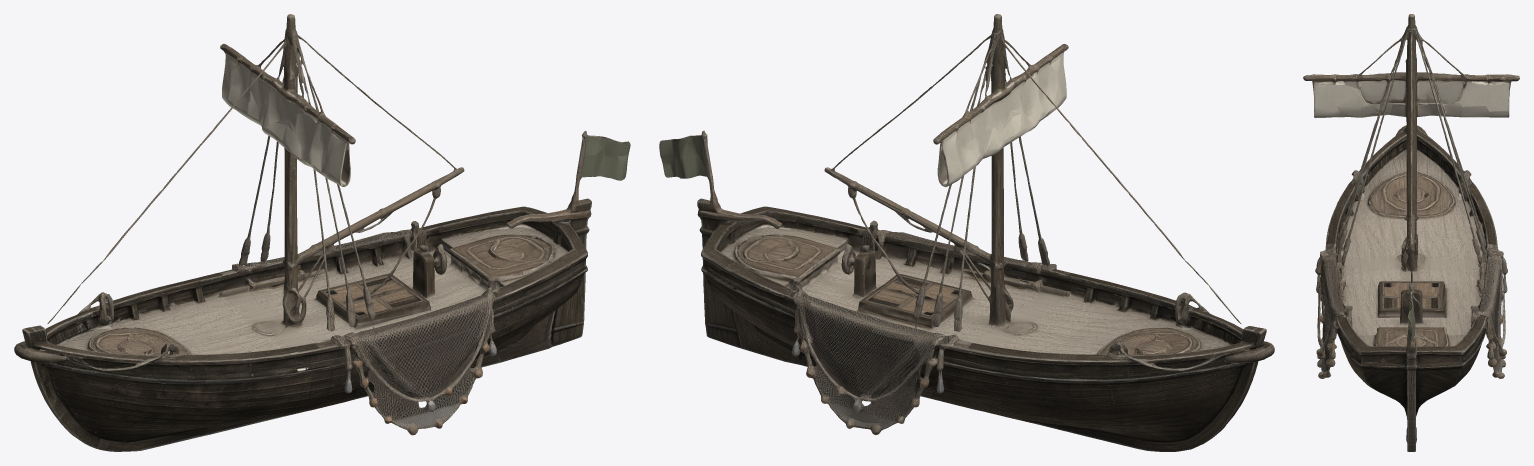
The model's file is barco-pesquero.glb.
3 views of the same model, side by side, from view 1: azimuth 30°, elevation 25°; view 2: azimuth 150°, elevation 25°; view 3: azimuth 270°, elevation 25° (orthographic). The views are drawn at different scales.
Bounding box in the file's own units: 1.89 × 1.18 × 0.7033.
1 material, 1 textured.
